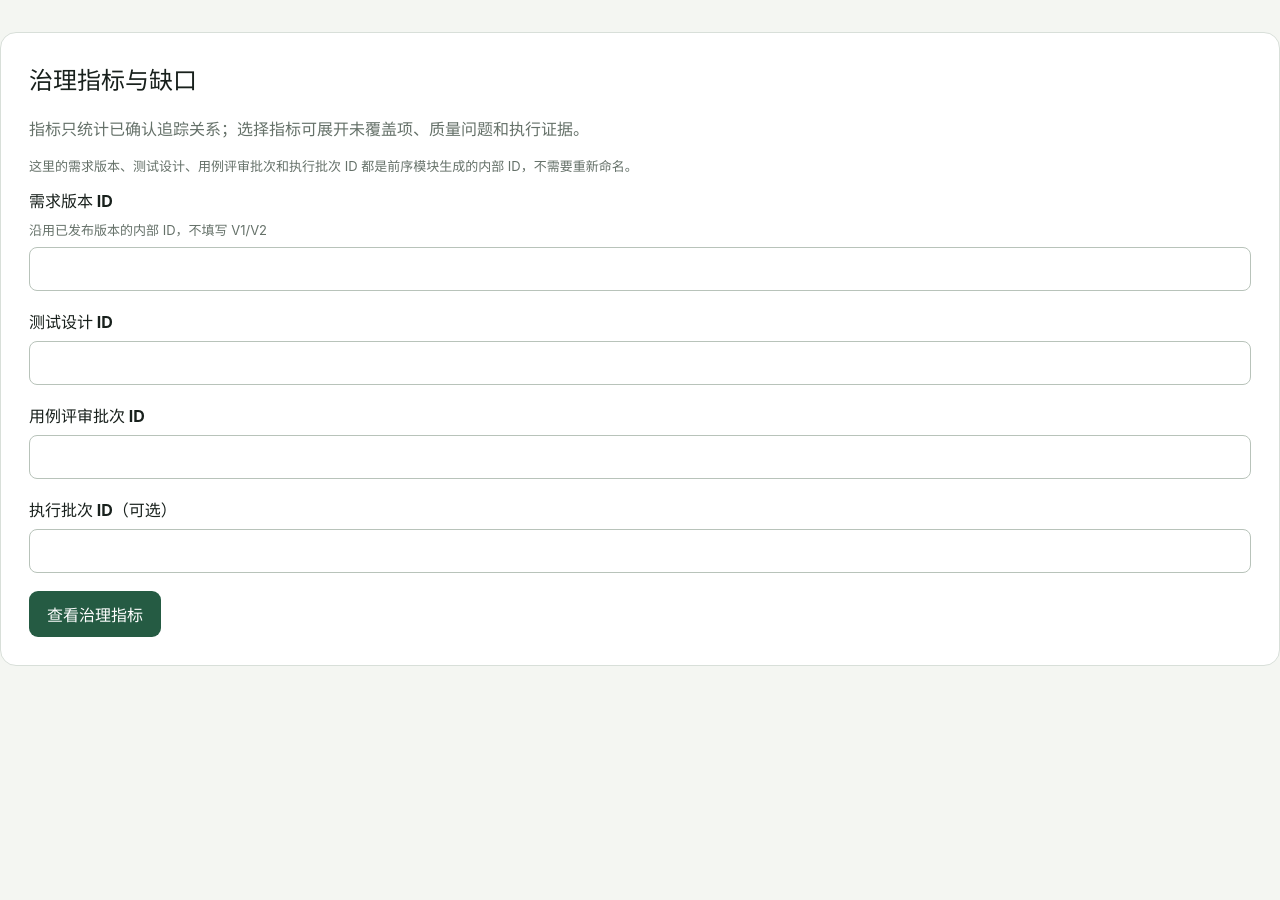
Test: CoveragePanel › loads a metric and exposes its gap, quality issue, and evidence details
In the field labelled "需求版本 ID": (640, 269) [29,247,1251,291], type "1"
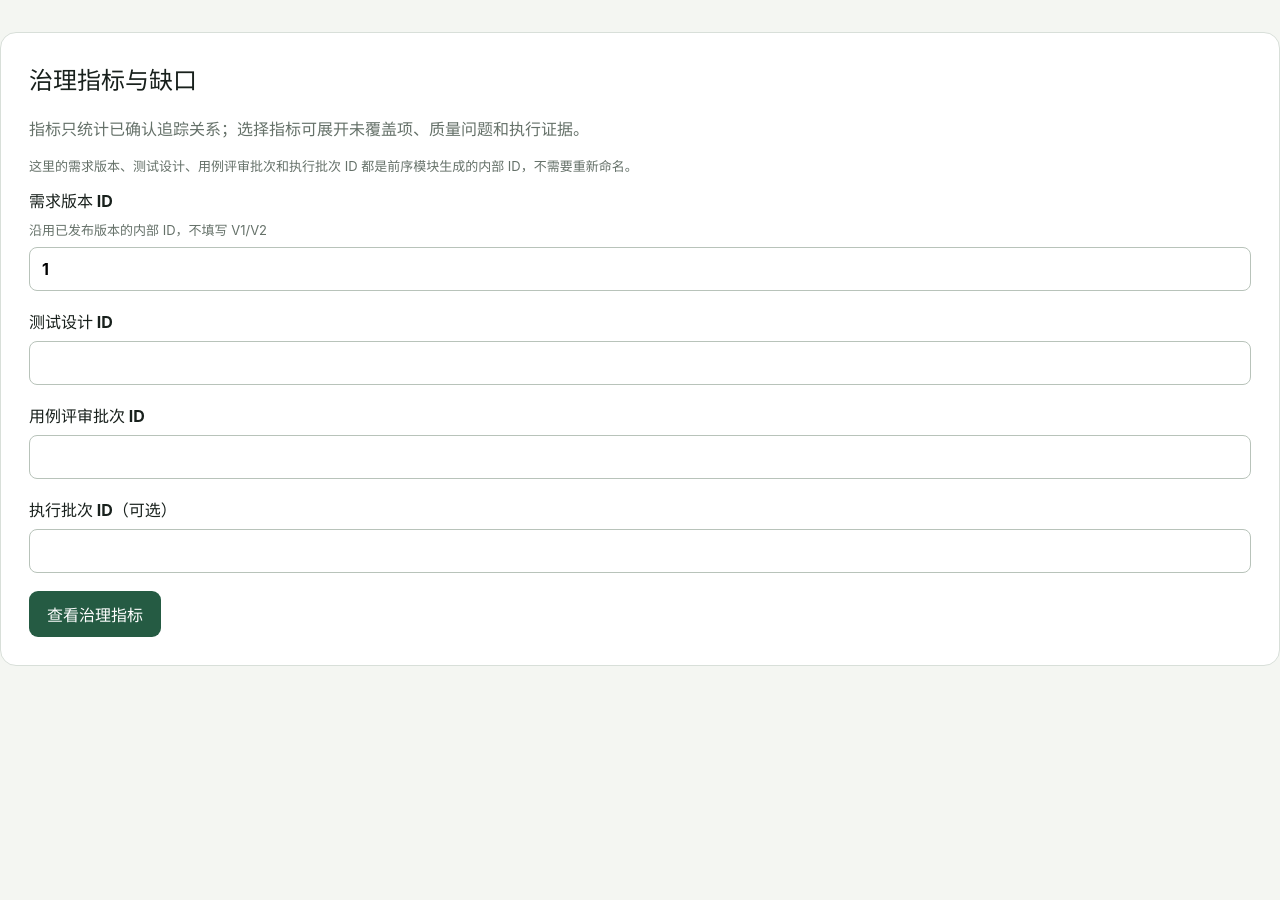
In the field labelled "测试设计 ID": (640, 363) [29,341,1251,385], type "2"
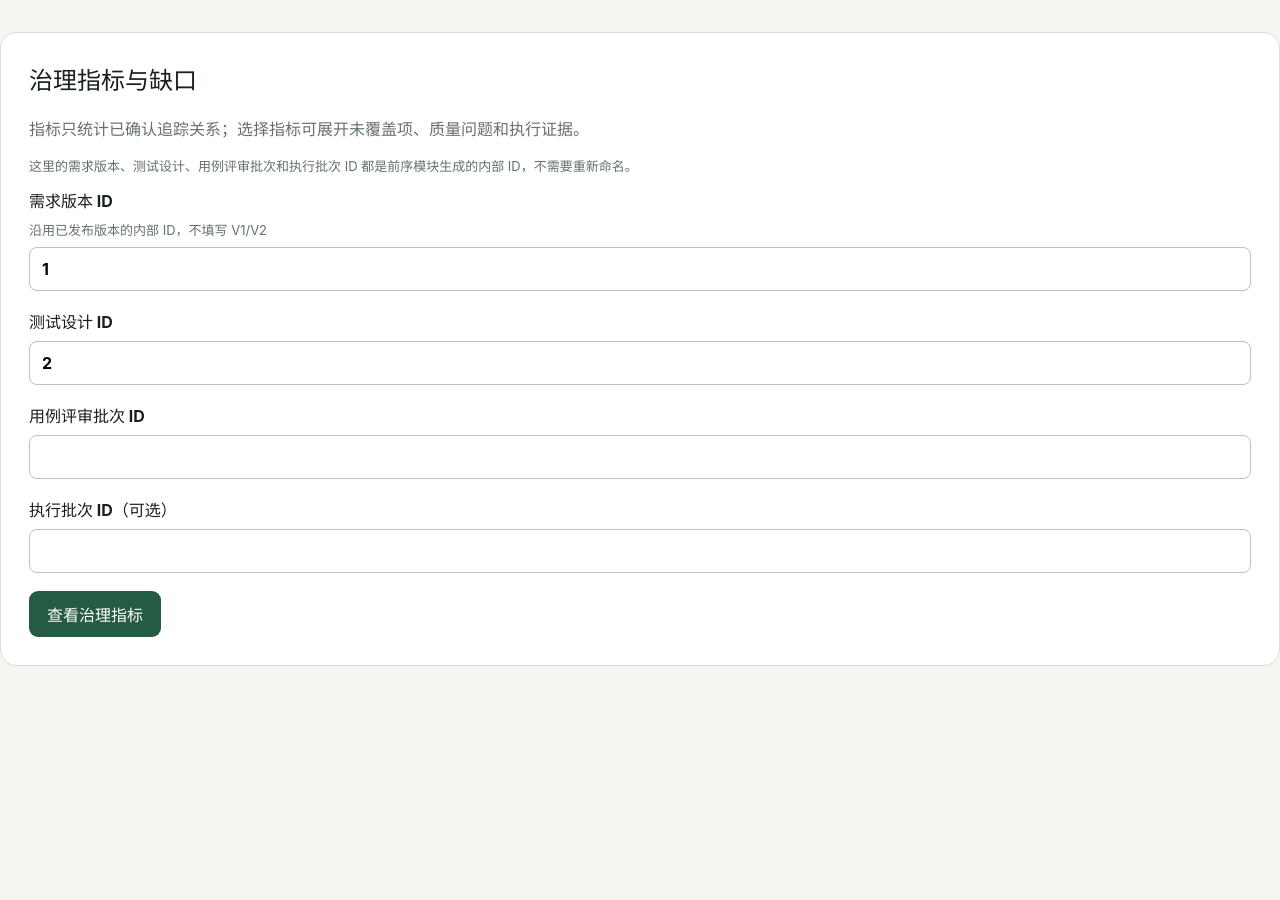
In the field labelled "用例评审批次 ID": (640, 457) [29,435,1251,479], type "3"
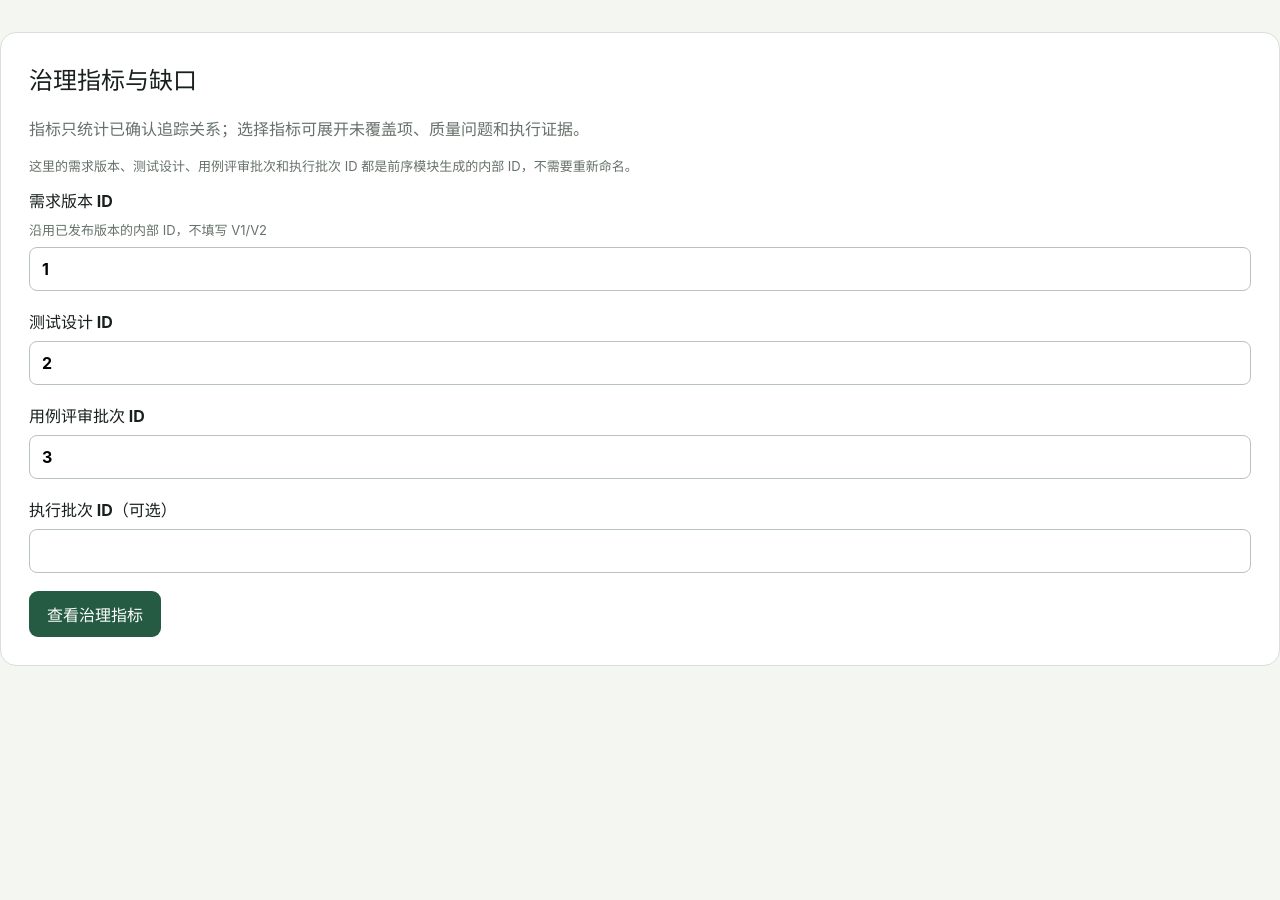
Click the button "查看治理指标": click(95, 614) [29,591,161,637]
(page scrolled)
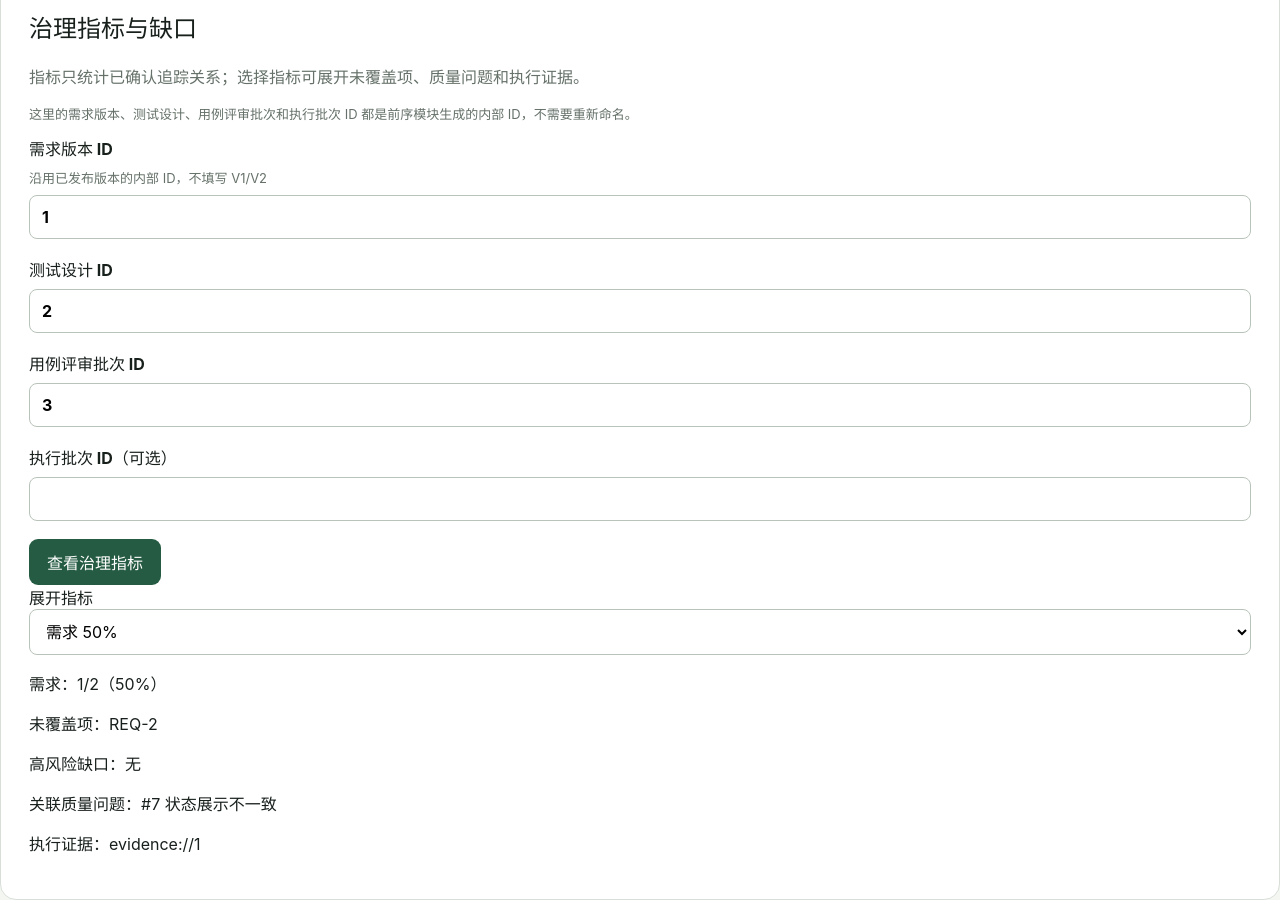
Now the text "未覆盖项：REQ-2" is shown, box [29,714,158,734]
Now the text "关联质量问题：#7 状态展示不一致" is shown, box [29,794,277,814]
Now the text "执行证据：evidence://1" is shown, box [29,834,201,854]
